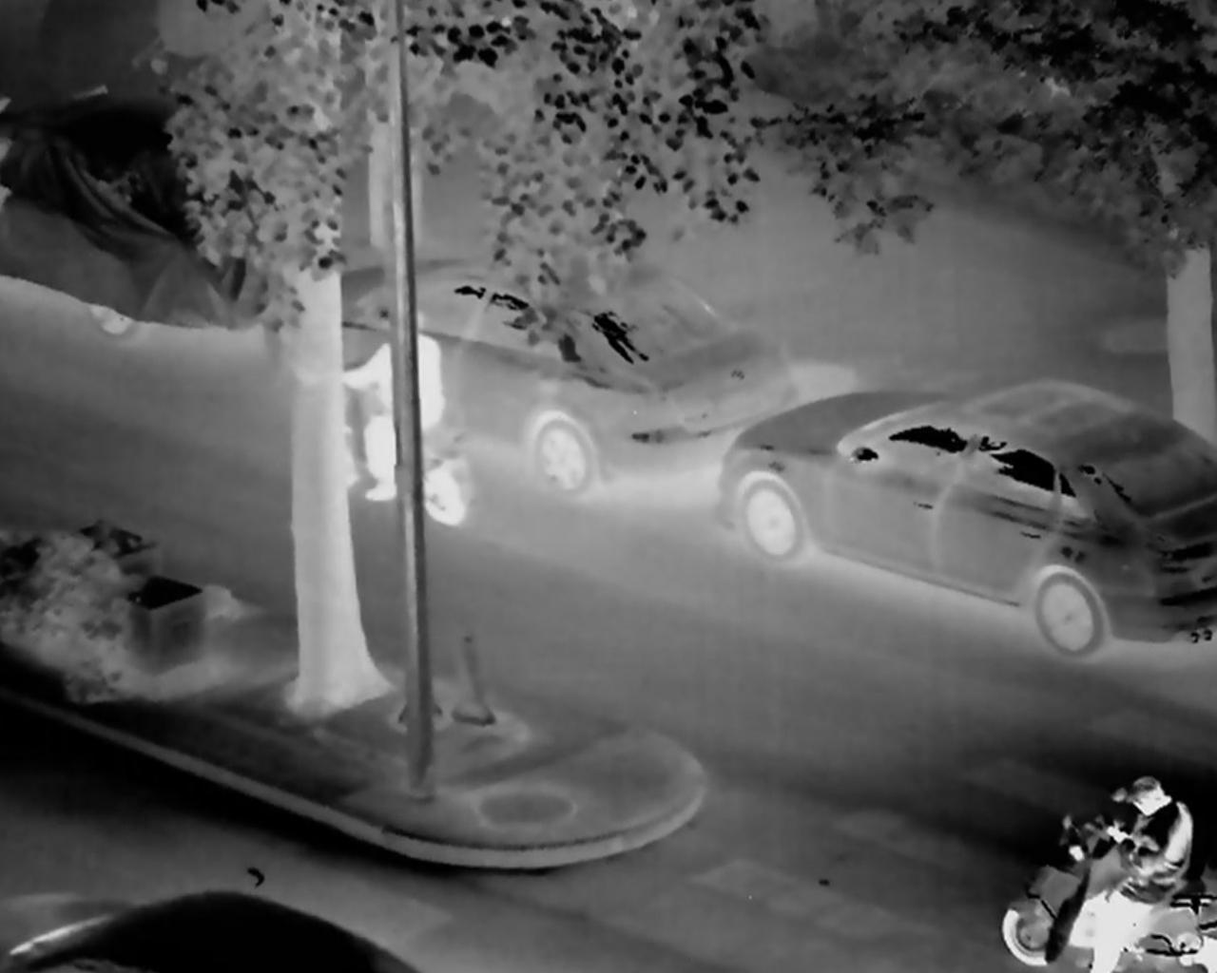person: (1059, 768, 1207, 973), (342, 306, 471, 524)
